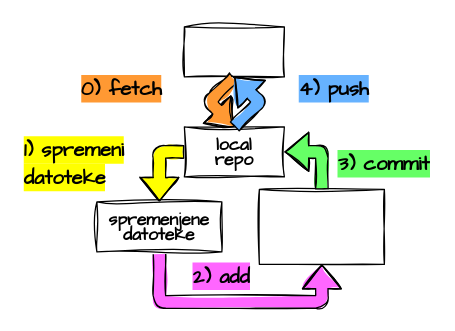
Some shapes in this 455 by 331 pixel diagram are drawn without their labels. The centre of each missing label's shape, as x and y in pixels:
datoteke,ki jih želimo dodati repozitoriju: (321,226)
remote repo: (233,51)
